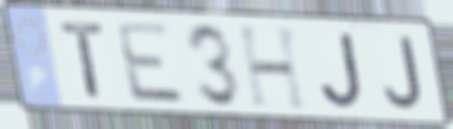3: (183, 21, 244, 110)
E: (112, 20, 189, 106)
H: (234, 23, 312, 113)
J: (317, 29, 366, 111), (381, 34, 426, 112)
T: (58, 20, 108, 101)
